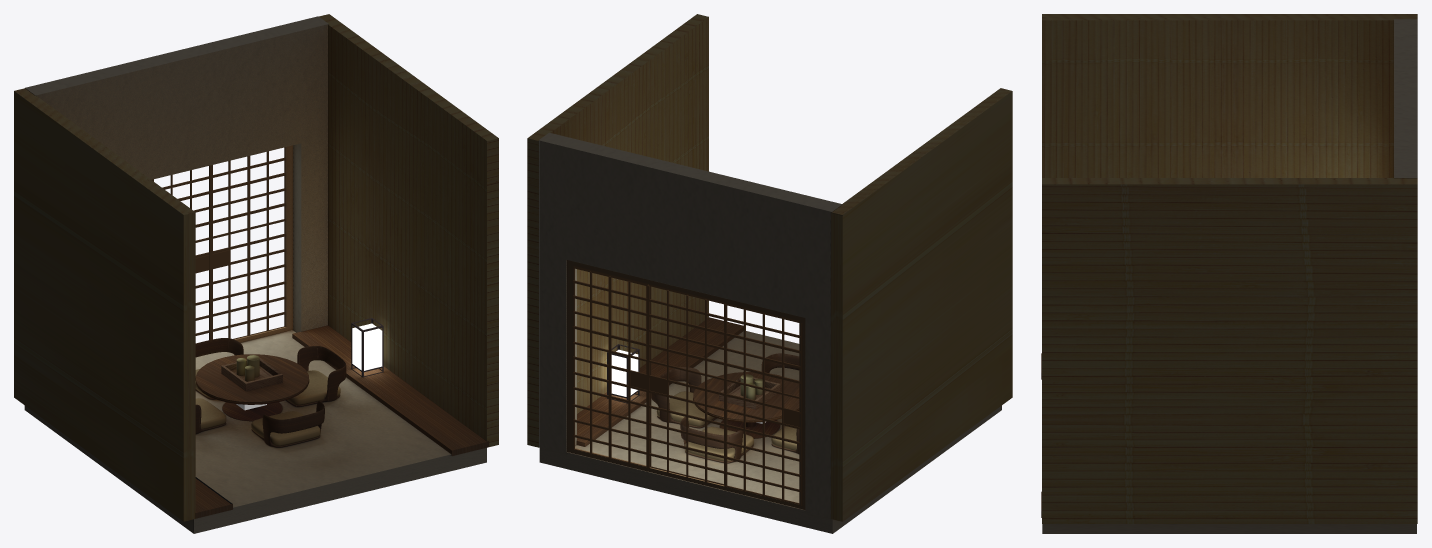
Rendered from room.gltf.
3 renders of one model, left to right at view 1: azimuth 30°, elevation 25°; view 2: azimuth 150°, elevation 25°; view 3: azimuth 270°, elevation 25°, orthographic. The views are drawn at different scales.
Parts seen in each view (by area): view 1: Object_2, Object_4, Object_11, Object_10, Object_18, Object_14, Object_12, Object_17, Object_3, Object_8, Object_9, Object_13 (+3 smaller); view 2: Object_2, Object_11, Object_4, Object_14, Object_10, Object_3, Object_18, Object_12, Object_17, Object_7, Object_8, Object_13 (+1 smaller); view 3: Object_4, Object_2, Object_11, Object_10.
Part boxes in pixels (<box>): Object_2: <box>14,88,195,521</box>; Object_4: <box>319,14,498,446</box>; Object_11: <box>25,16,328,332</box>; Object_10: <box>24,330,486,533</box>; Object_18: <box>195,325,488,518</box>; Object_14: <box>152,147,285,339</box>; Object_12: <box>195,354,309,421</box>; Object_17: <box>195,369,340,446</box>; Object_3: <box>234,145,292,342</box>; Object_8: <box>286,346,346,406</box>; Object_9: <box>251,401,324,447</box>; Object_13: <box>352,323,382,370</box>; Object_2: <box>831,88,1012,521</box>; Object_11: <box>538,132,842,518</box>; Object_4: <box>527,14,708,447</box>; Object_14: <box>572,266,802,505</box>; Object_10: <box>539,331,1001,533</box>; Object_3: <box>567,260,805,509</box>; Object_18: <box>576,317,743,446</box>; Object_12: <box>693,372,799,438</box>; Object_17: <box>656,391,796,461</box>; Object_7: <box>680,417,753,463</box>; Object_8: <box>651,367,716,428</box>; Object_13: <box>611,349,638,396</box>; Object_4: <box>1042,178,1417,523</box>; Object_2: <box>1042,14,1417,177</box>; Object_11: <box>1394,19,1417,178</box>; Object_10: <box>1042,524,1416,533</box>.
Size of the model in its own units: 28.17 by 27.5 by 26.32.
Materials: 17 (14 with a texture image).
